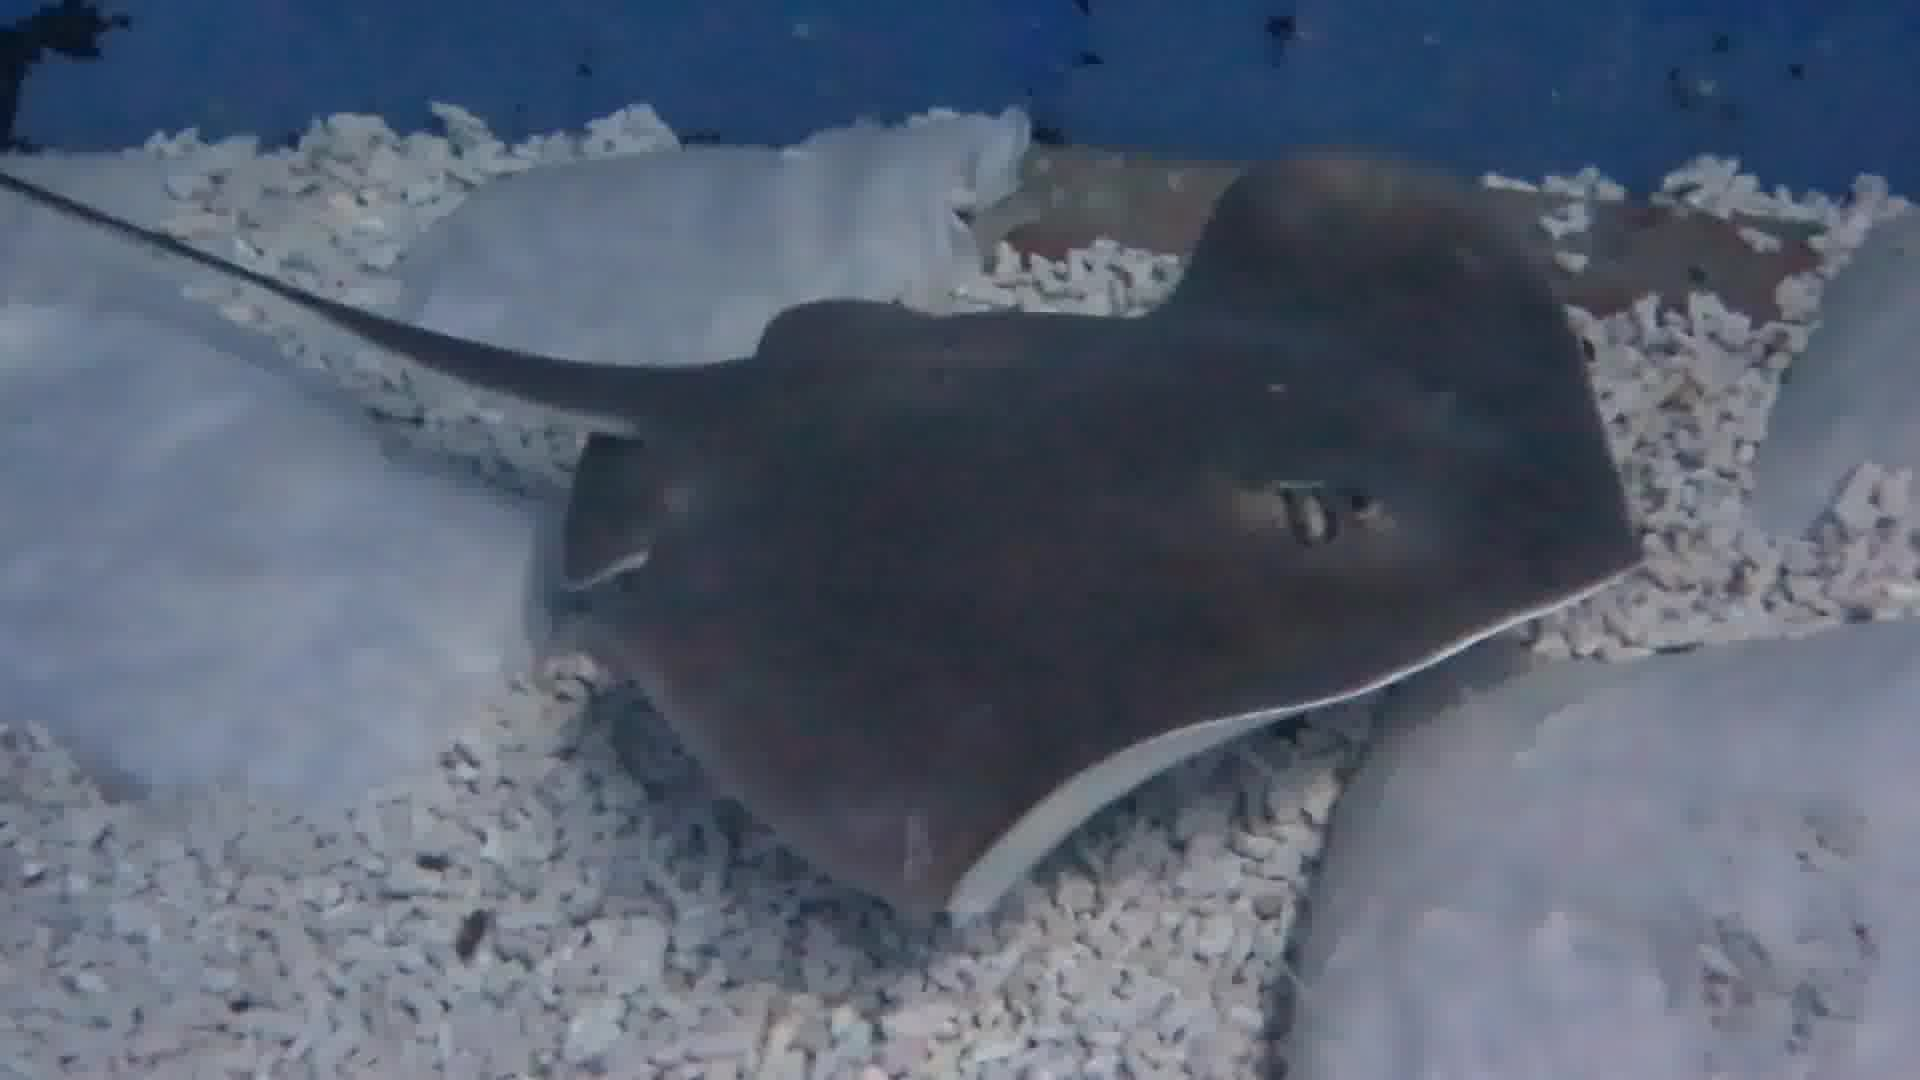Dasyatis bennetti: (529, 104, 1669, 948)
